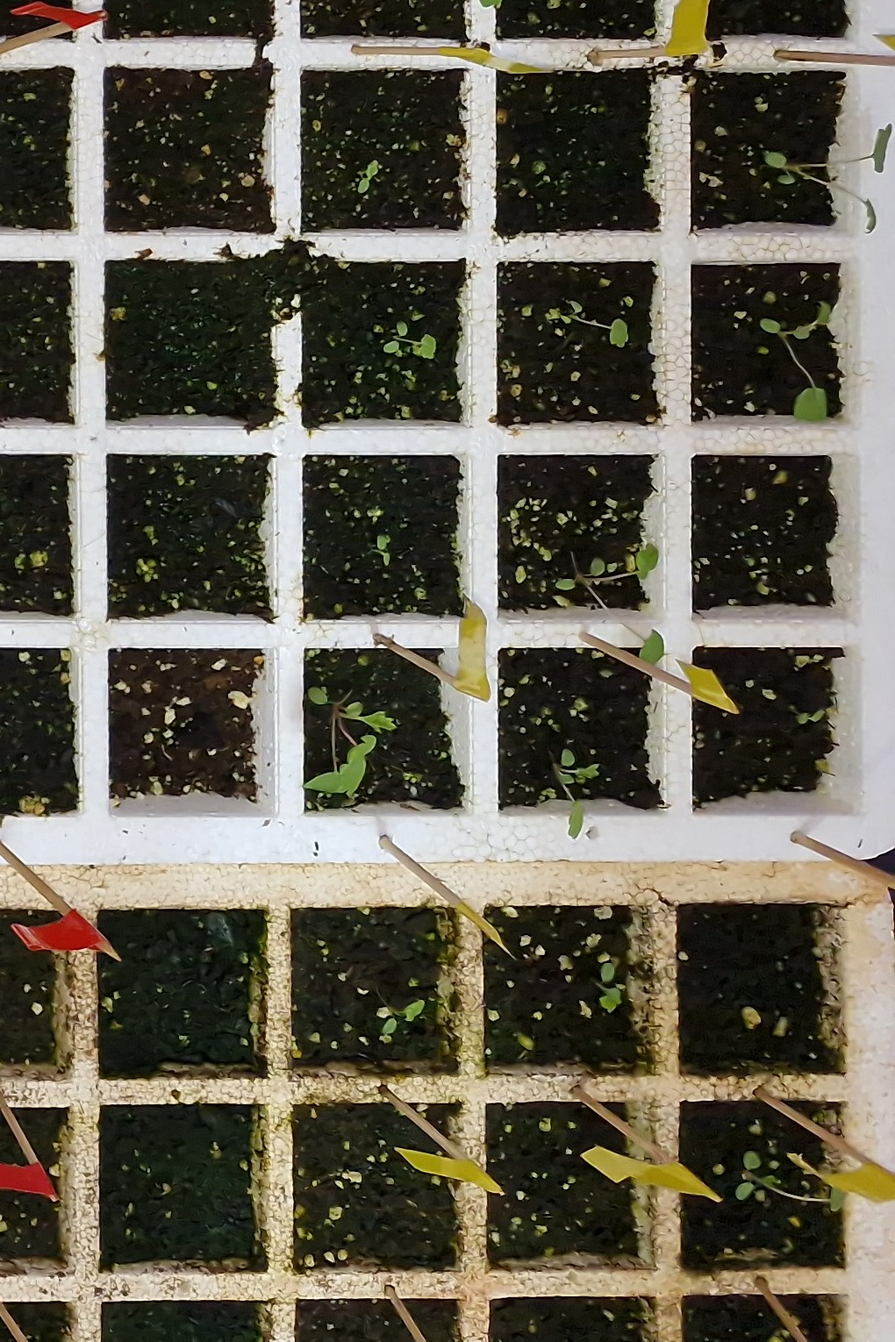Folha: (304, 736, 376, 796), (340, 712, 396, 733), (794, 388, 827, 422), (639, 629, 665, 665), (636, 543, 659, 579), (610, 319, 628, 348), (569, 802, 583, 838), (576, 764, 600, 782), (421, 335, 436, 359), (308, 687, 327, 704), (761, 319, 781, 334), (818, 302, 831, 323), (346, 701, 363, 717), (555, 578, 575, 590), (809, 709, 825, 722), (592, 558, 604, 575), (562, 749, 574, 766), (557, 310, 571, 324), (794, 326, 809, 339), (384, 341, 399, 352), (397, 321, 407, 336), (570, 301, 581, 313), (797, 712, 809, 723), (559, 775, 574, 783)
Germinacao: (555, 543, 664, 665), (304, 688, 396, 796), (760, 302, 831, 422), (552, 749, 600, 838), (556, 301, 628, 347), (383, 321, 436, 359), (398, 0, 511, 7), (797, 709, 824, 724)
